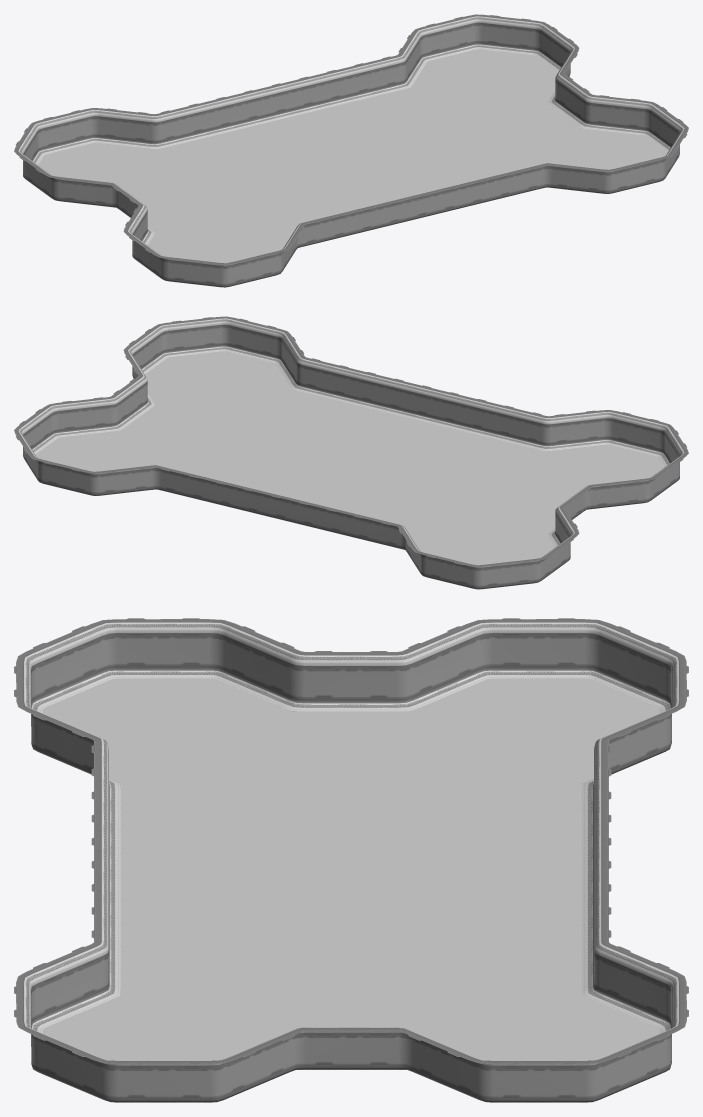
File: Map.fbx
3 renders of one model, top to bottom at view 1: azimuth 30°, elevation 25°; view 2: azimuth 150°, elevation 25°; view 3: azimuth 270°, elevation 25°, orthographic. The views are drawn at different scales.
Visible parts, largest first — view 1: Map; view 2: Map; view 3: Map.
Boxes of the visible parts, x1=… form: Map: x1=14, y1=14, x2=688, y2=287; Map: x1=14, y1=316, x2=688, y2=589; Map: x1=14, y1=618, x2=688, y2=1102.
Bounding box in the file's own units: 0.5806 × 0.0292 × 0.3706.
